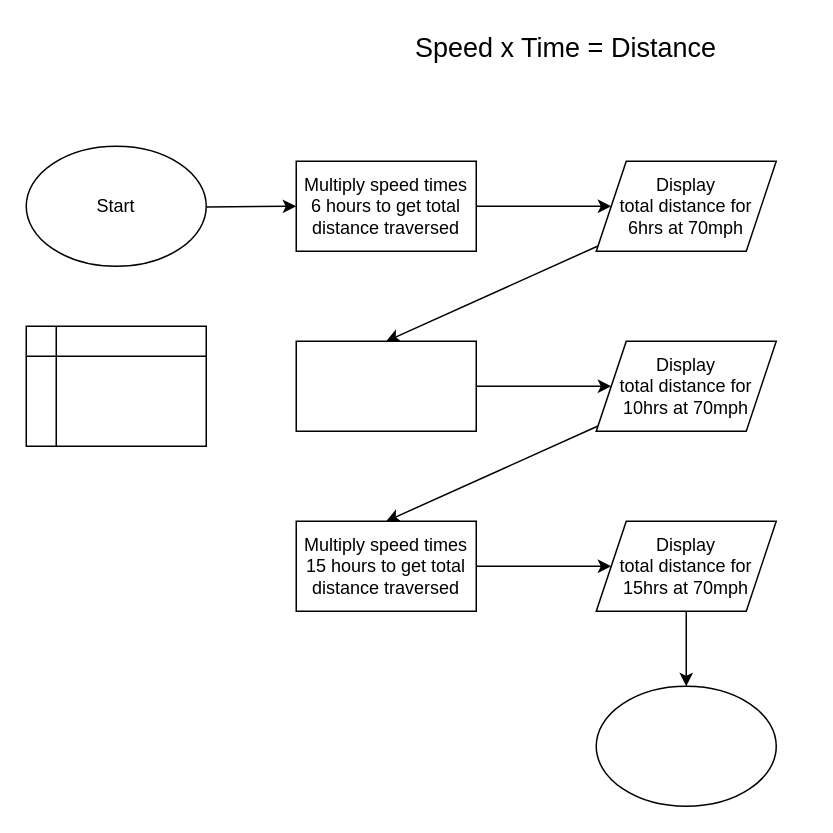
This 833x833 diagram has some shape labels left out. Each missing label, with the box of its shape:
End: (595, 685, 776, 806)
Multiply speed times 10 hours to get total distance traversed: (295, 340, 476, 431)
Speed = 70mph: (25, 325, 206, 446)
